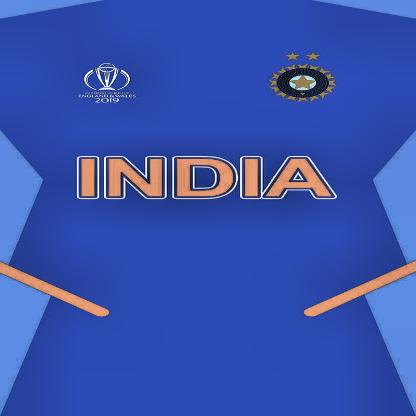BCCI: (271, 64, 332, 103)
